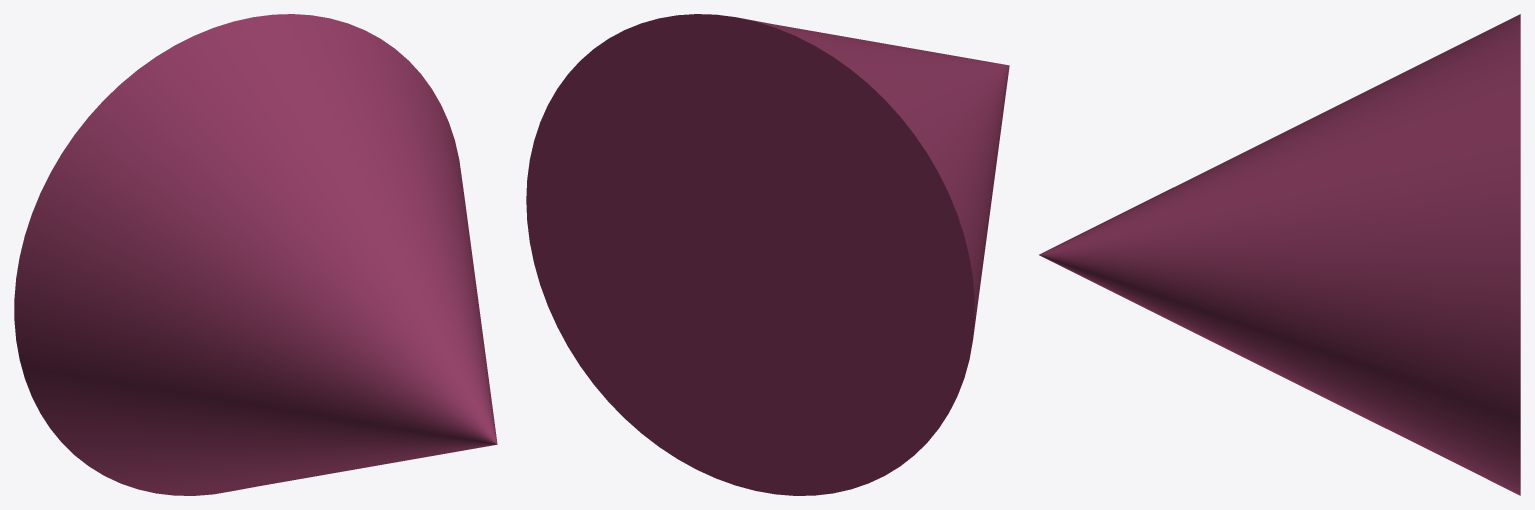
Rendered from unit_cone.obj.
3 renders of one model, left to right at view 1: azimuth 30°, elevation 25°; view 2: azimuth 150°, elevation 25°; view 3: azimuth 270°, elevation 25°, orthographic. The views are drawn at different scales.
Visible parts, largest first — view 1: mesh 1 un; view 2: mesh 1 un; view 3: mesh 1 un.
Boxes of the visible parts, bbox=[...] form: mesh 1 un: bbox=[14, 14, 497, 495]; mesh 1 un: bbox=[526, 14, 1009, 495]; mesh 1 un: bbox=[1039, 14, 1520, 495].
Bounding box in the file's own units: 0.9995 × 0.9998 × 1.
